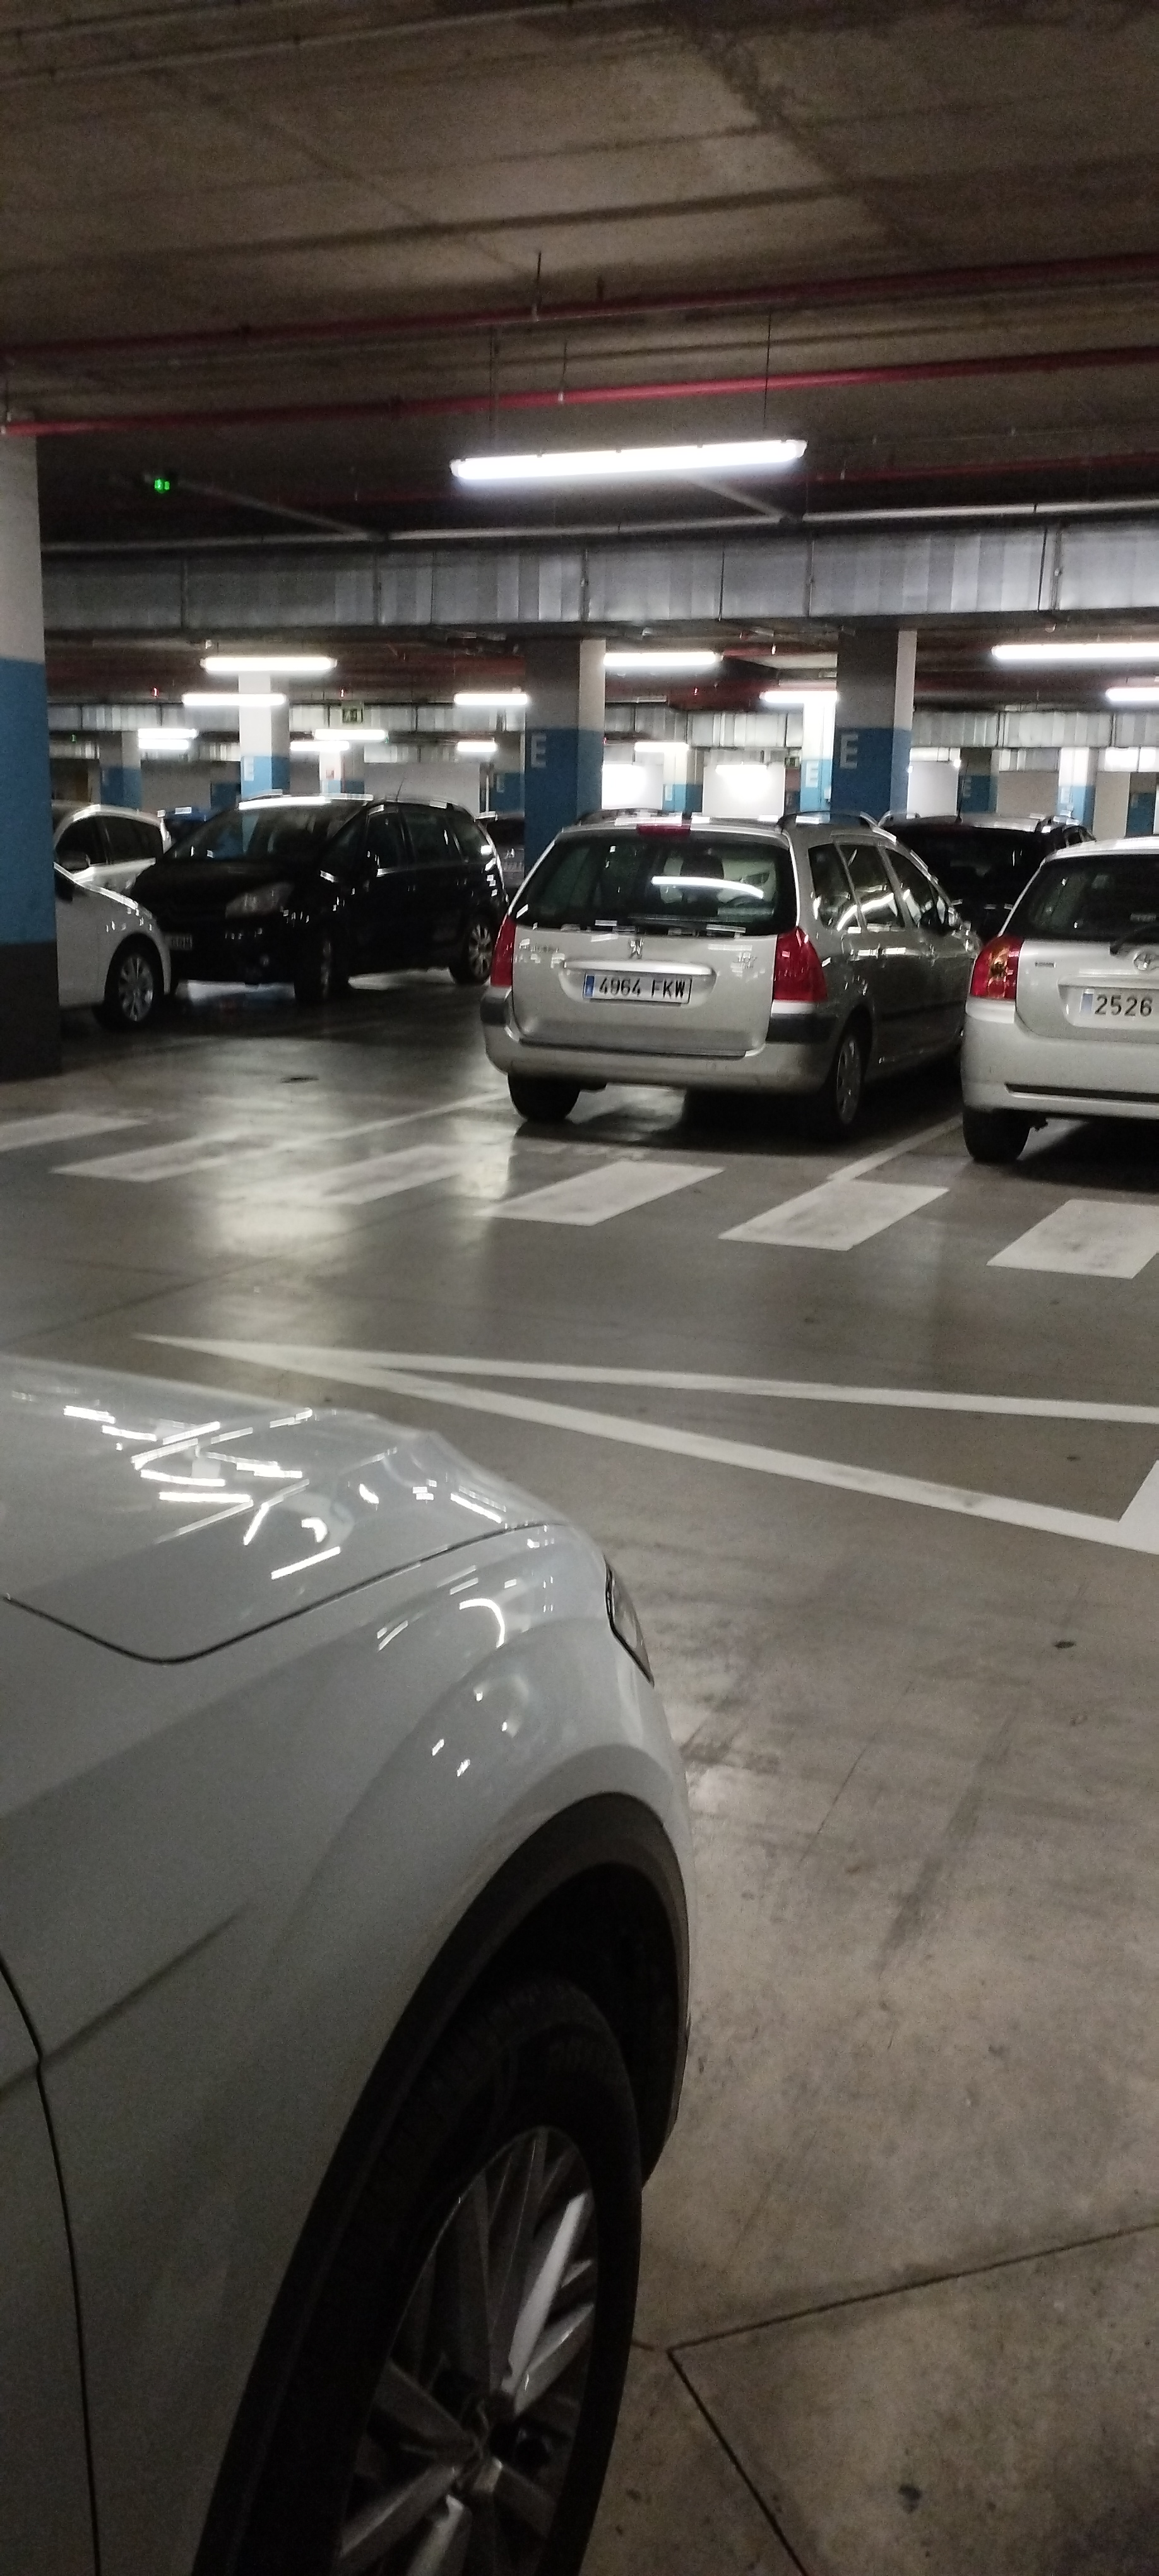Car: (488, 796, 958, 1140), (134, 794, 502, 989), (958, 819, 1158, 1163)
Plate: (583, 971, 690, 1001), (1079, 990, 1156, 1022)
